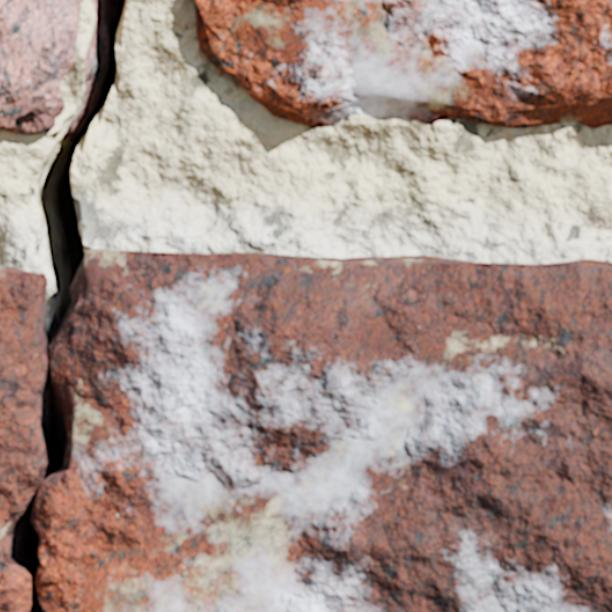brick: (197, 0, 611, 128), (0, 0, 80, 134)
broken_brick: (37, 248, 611, 611), (0, 264, 44, 611)
crack: (1, 0, 126, 611), (0, 279, 6, 283)
